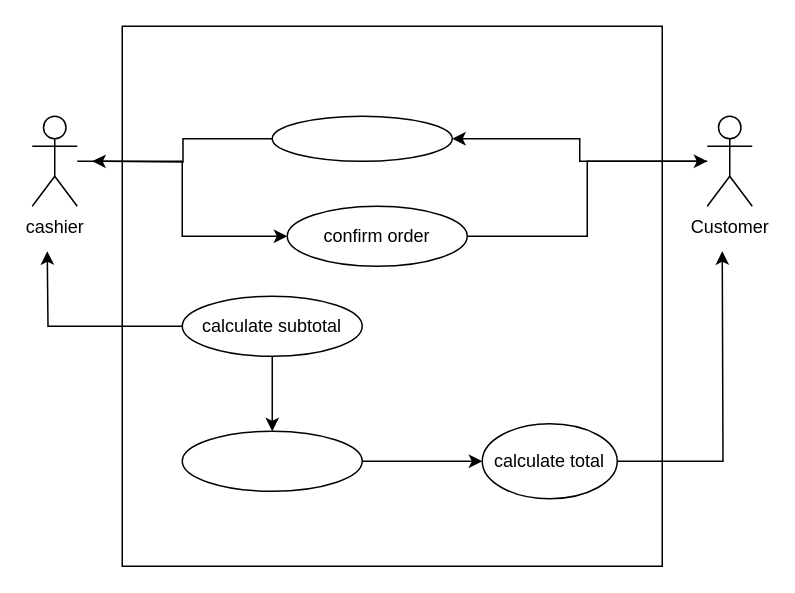
Image size: 795x593. Some labels were removed from this diagram. Each missing label, with the box of its shape:
apply tax: (181, 430, 362, 491)
Give your order: (271, 115, 452, 161)
